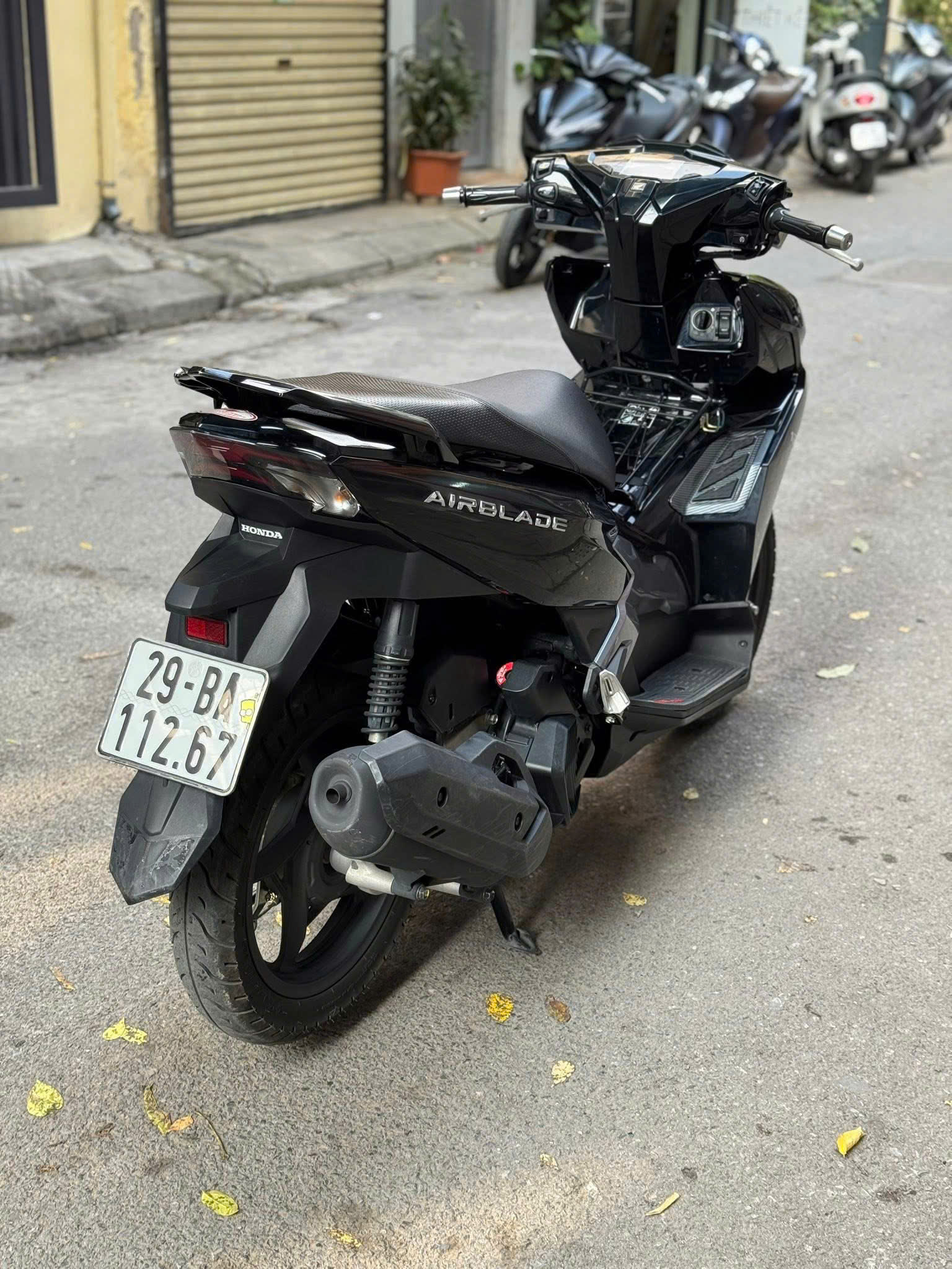Bien-so: (98, 641, 269, 794)
